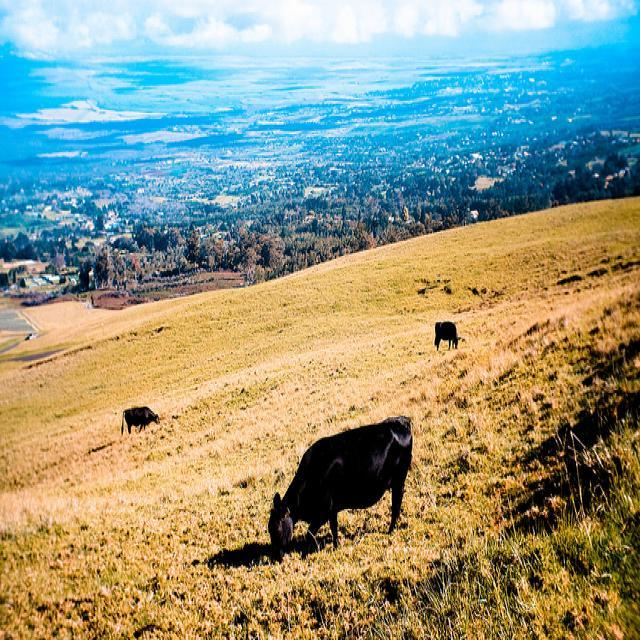cow: (266, 416, 414, 562), (120, 404, 159, 434), (432, 320, 460, 350)
